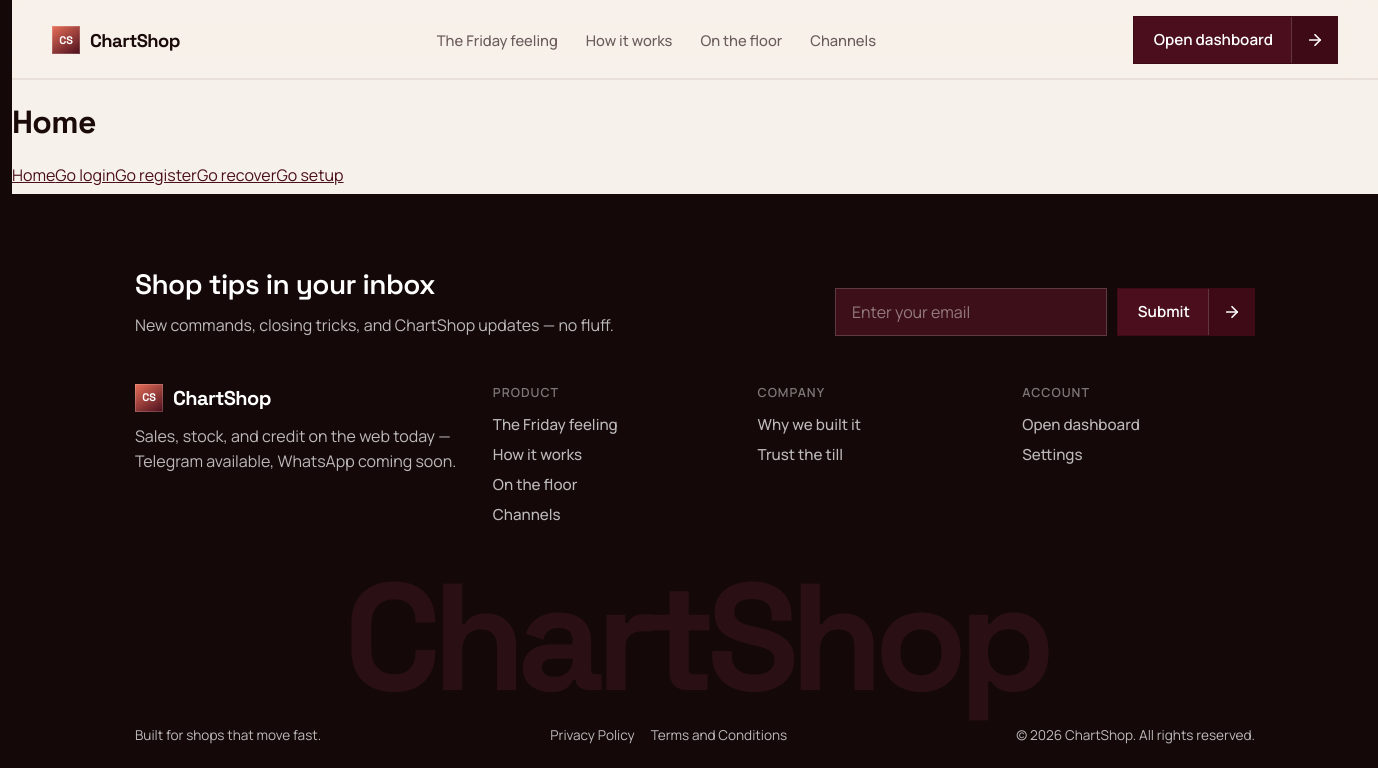
Test case: scroll behaviour › SiteLayout › resets window scroll when navigating / → next marketing route
Step 1. Click the link "Go login" → [85, 175], box [55,164,115,186]
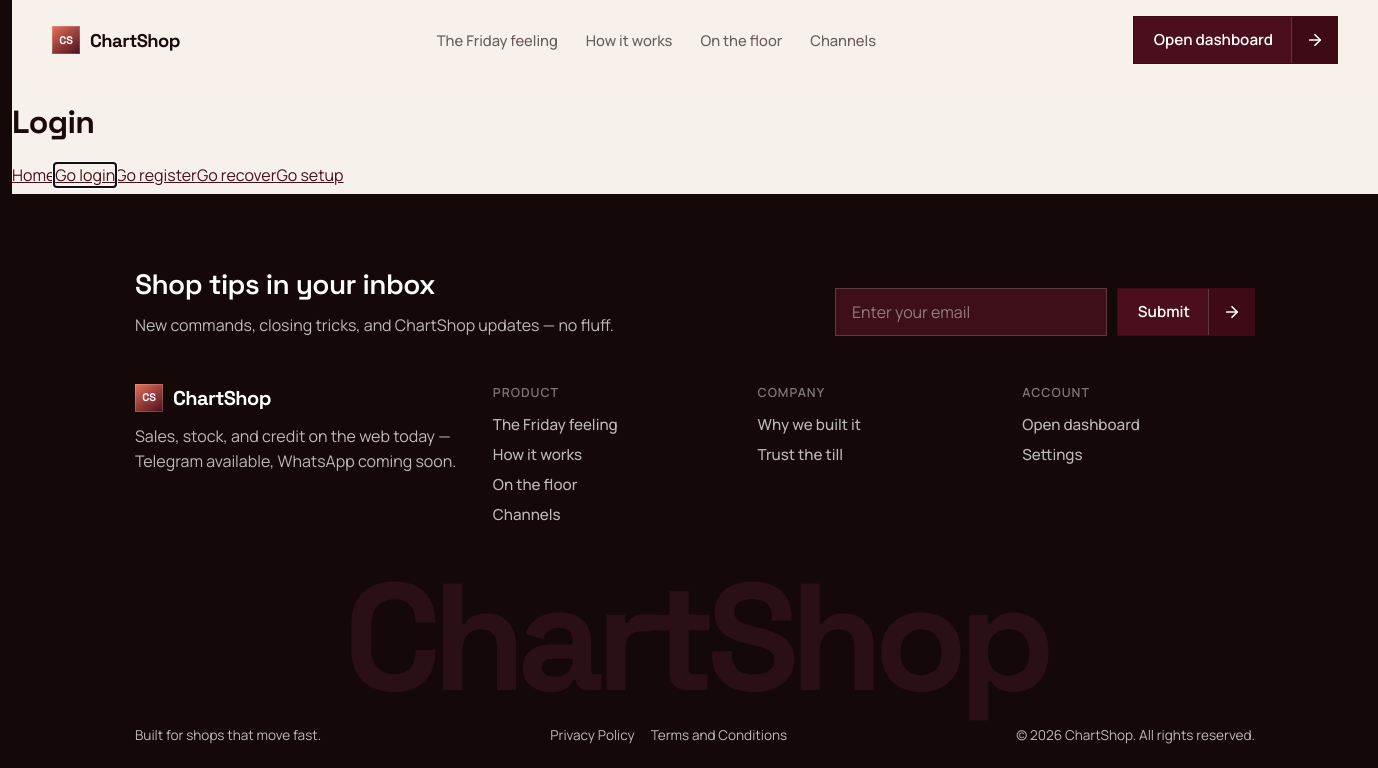
Result: the heading "Login" is shown at [12,102,94,142]
